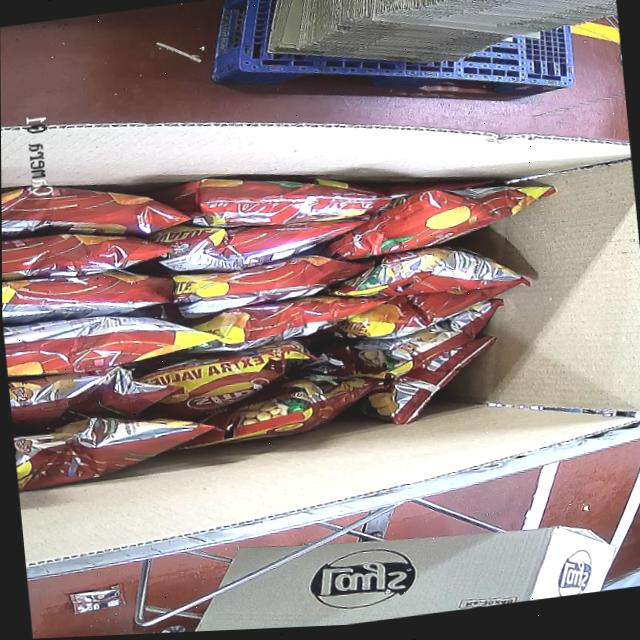MASALA: (1, 116, 575, 492)
